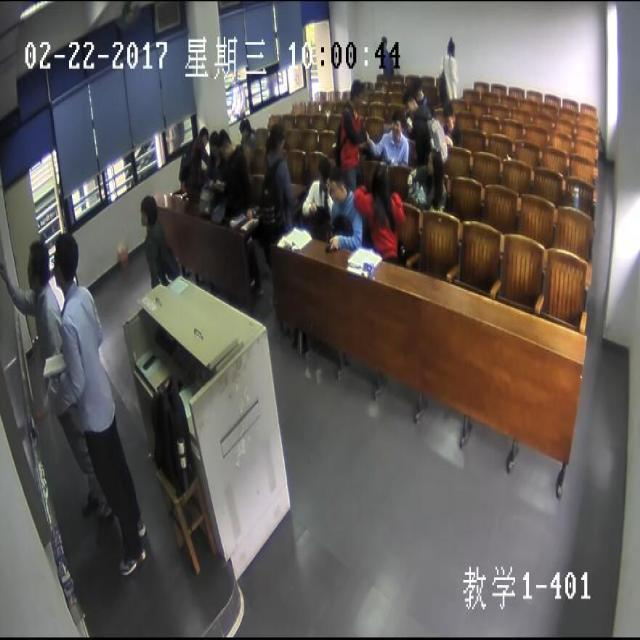no_helmet: (53, 232, 78, 288), (25, 236, 49, 292), (369, 166, 388, 196), (139, 193, 155, 227), (328, 168, 344, 202), (316, 157, 332, 188), (217, 126, 230, 154), (269, 120, 283, 146), (349, 78, 363, 103), (427, 148, 439, 171), (207, 128, 219, 149), (402, 87, 415, 106), (411, 75, 422, 96), (390, 111, 400, 133), (442, 105, 452, 126), (197, 124, 208, 143), (238, 116, 248, 133), (447, 36, 454, 55), (380, 34, 388, 50)
